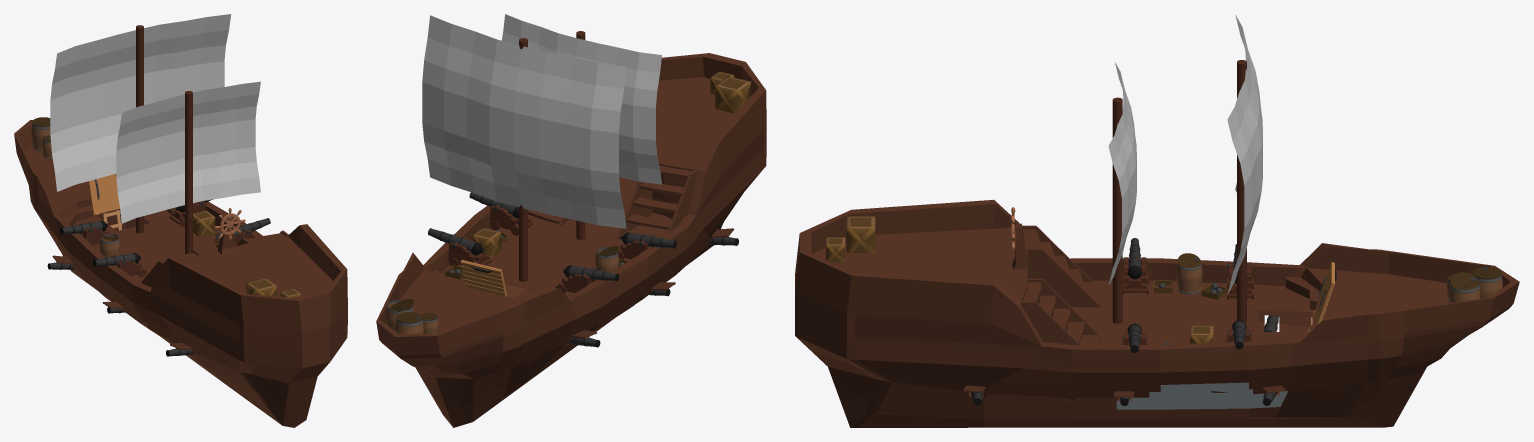
The model's file is piraatti laiva Optimoitu.fbx.
3 views of the same model, side by side, from view 1: azimuth 30°, elevation 25°; view 2: azimuth 150°, elevation 25°; view 3: azimuth 270°, elevation 25° (orthographic). The views are drawn at different scales.
Visible parts, largest first — view 1: laiva; view 2: laiva; view 3: laiva.
Boxes of the visible parts, bbox=[...] form: laiva: bbox=[14, 14, 347, 427]; laiva: bbox=[376, 14, 766, 427]; laiva: bbox=[795, 15, 1519, 427].
Size of the model in its own units: 812 by 1277 by 2297.
